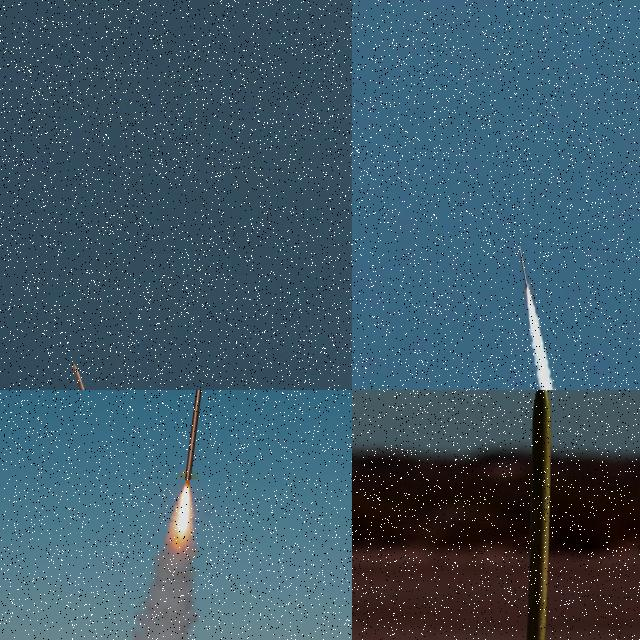Rocket: (495, 390, 565, 640), (175, 390, 205, 482), (518, 241, 531, 290), (72, 362, 94, 390)
